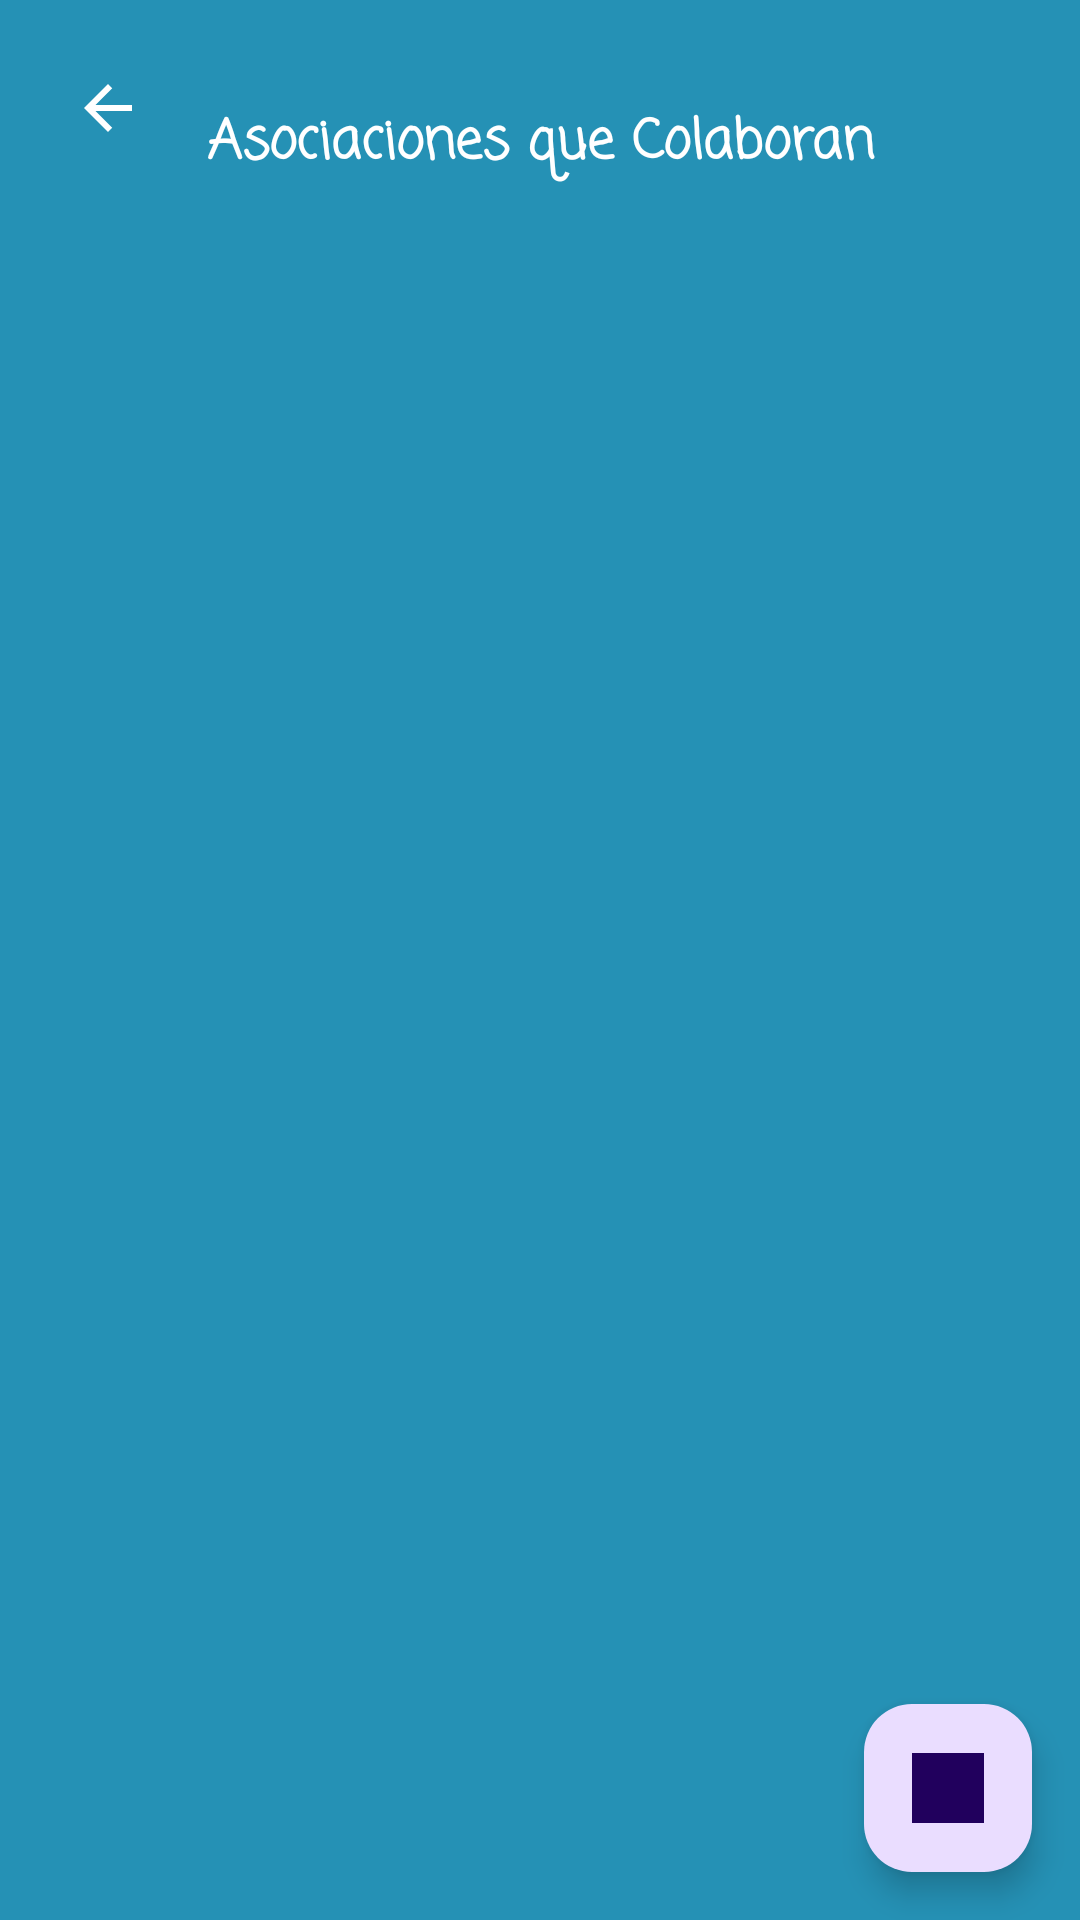

Icons on this 1080w x 1920h Android screen, each with the point to tap as point (x, y):
Volver: point (108, 108)
